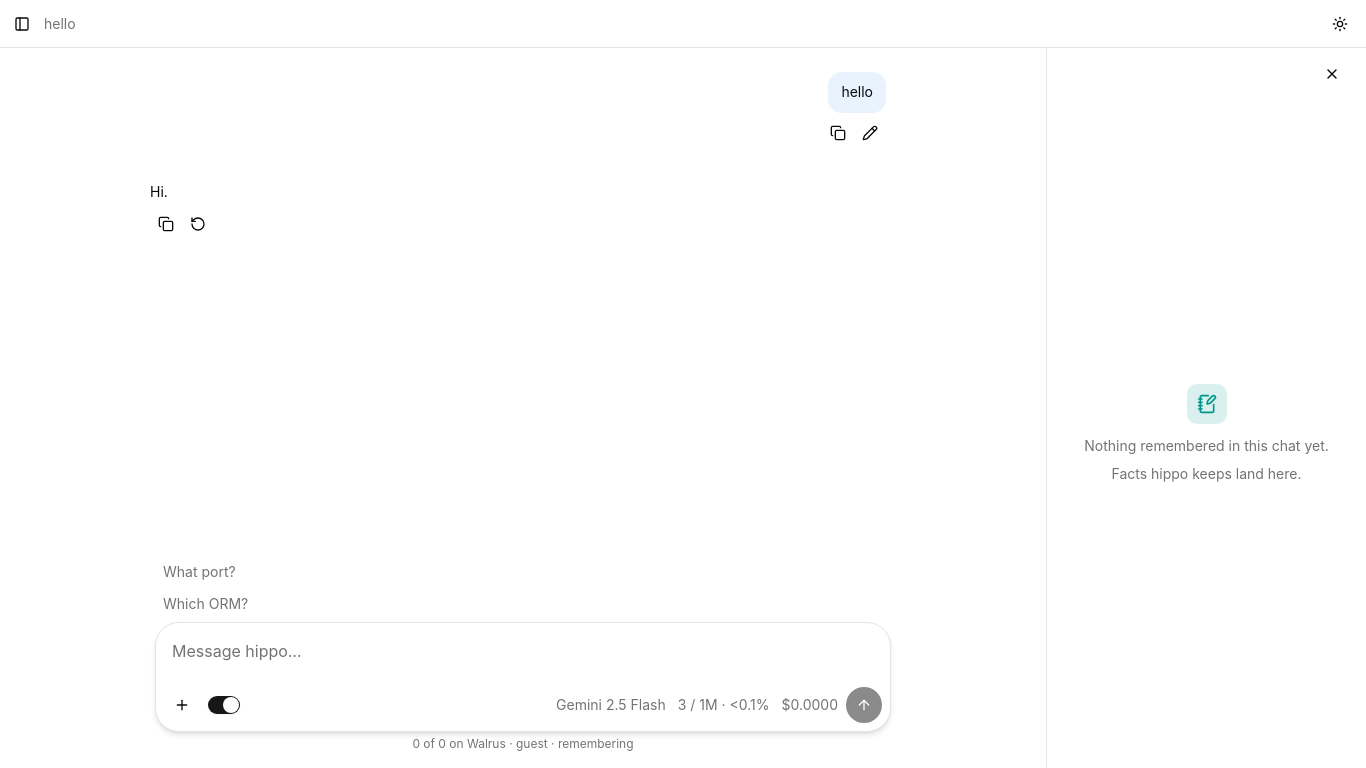
Test: chat page › fills the composer with a follow-up and does not send it
The width and height of the screenshot is (1366, 768).
What coordinates should you click on to do the following:
click the button "What port?"
I would click on:
 (199, 572)
Its box is [163,562,236,582].
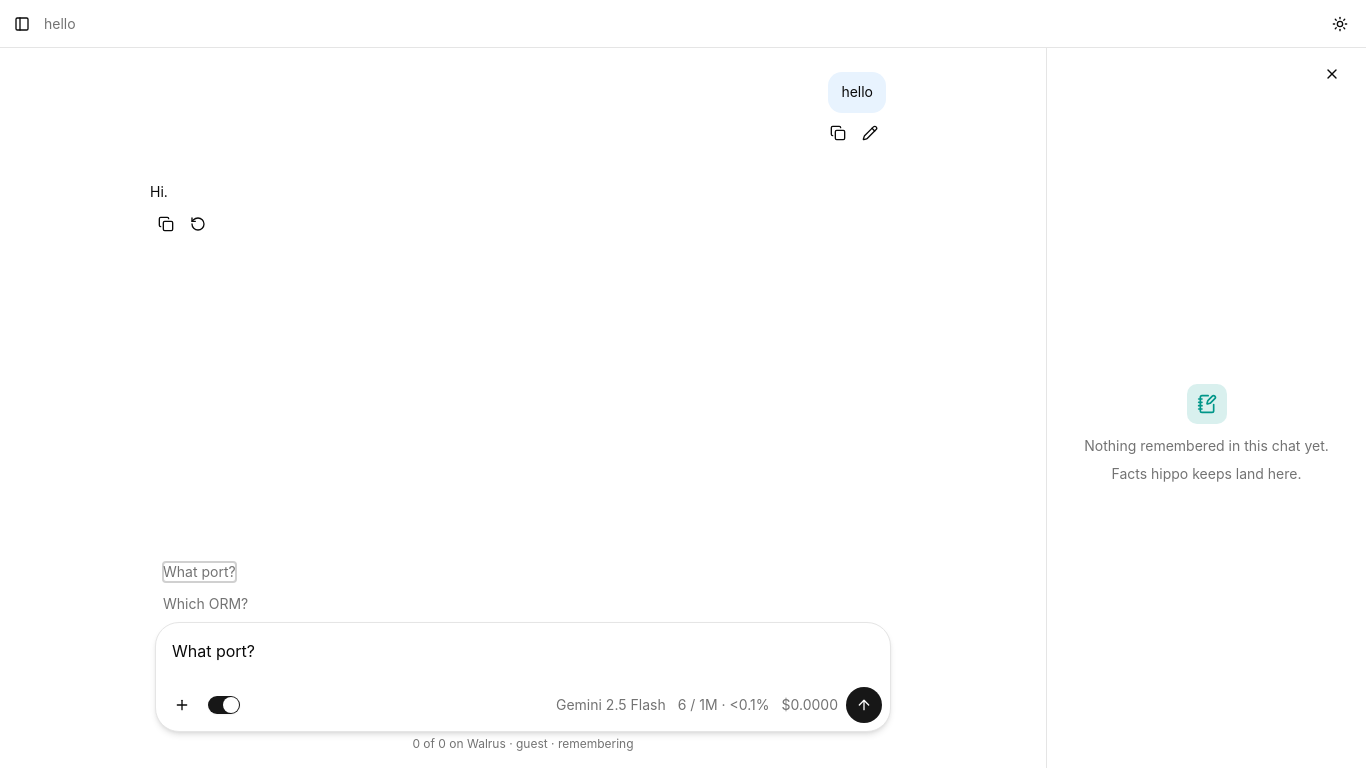
Expected: the text box with placeholder "Message hippo…" holds "What port?", [156,623,890,687]
